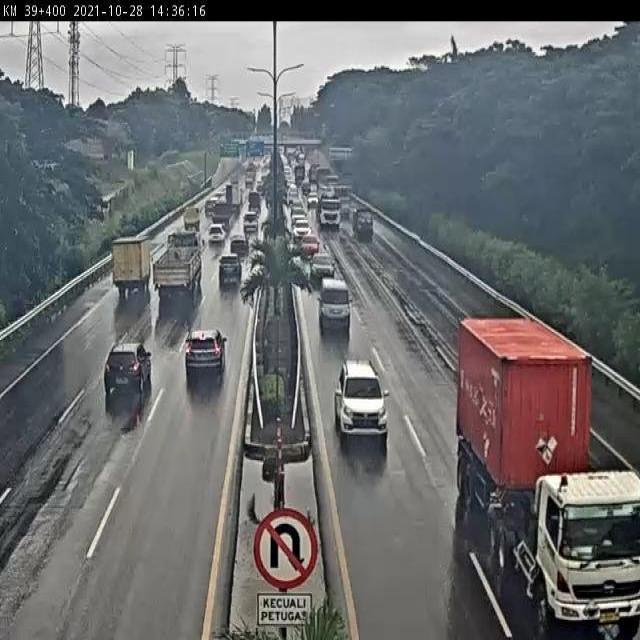big truck: (458, 340, 640, 640), (152, 229, 205, 299)
car: (333, 358, 392, 446), (100, 342, 154, 402), (182, 328, 228, 384), (317, 276, 352, 336), (218, 253, 242, 288), (309, 248, 334, 280), (228, 233, 250, 260), (206, 221, 227, 248), (292, 216, 311, 243), (300, 232, 320, 257)
small truck: (109, 235, 152, 300)
